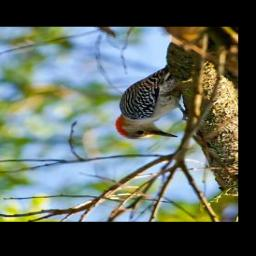Woodpecker: (98, 59, 197, 144)
